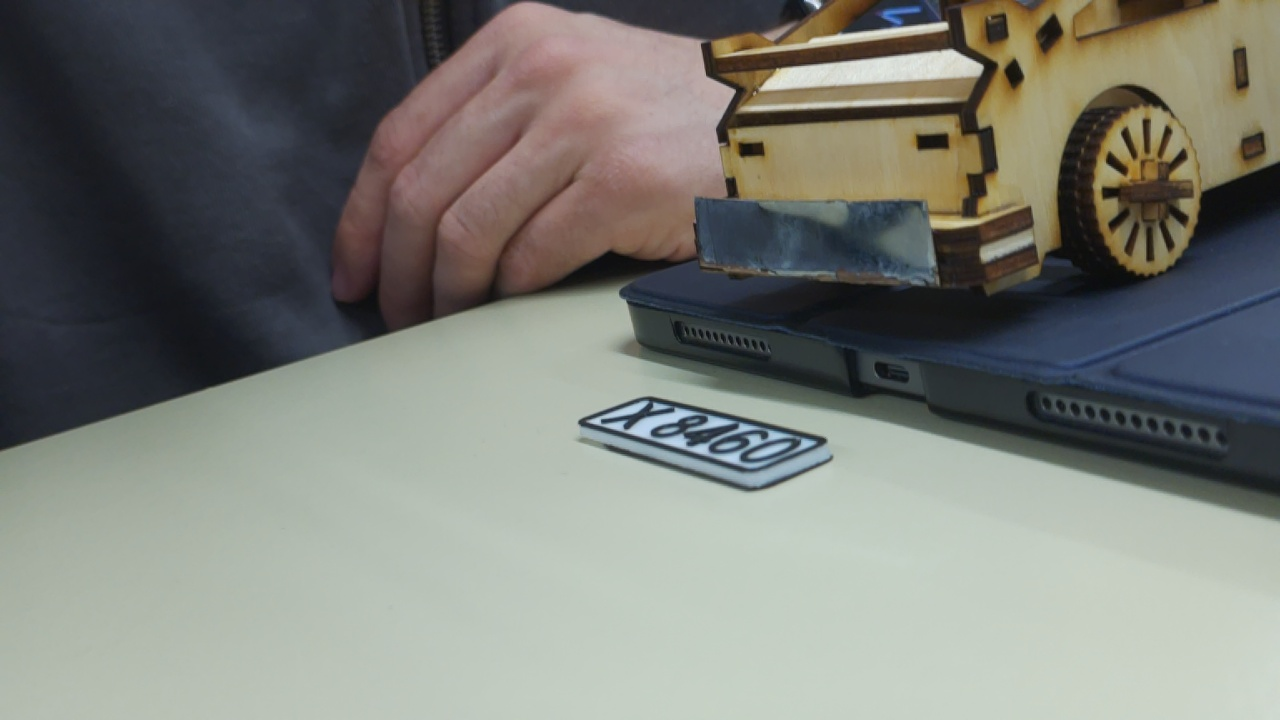license_plate: (572, 392, 833, 503)
